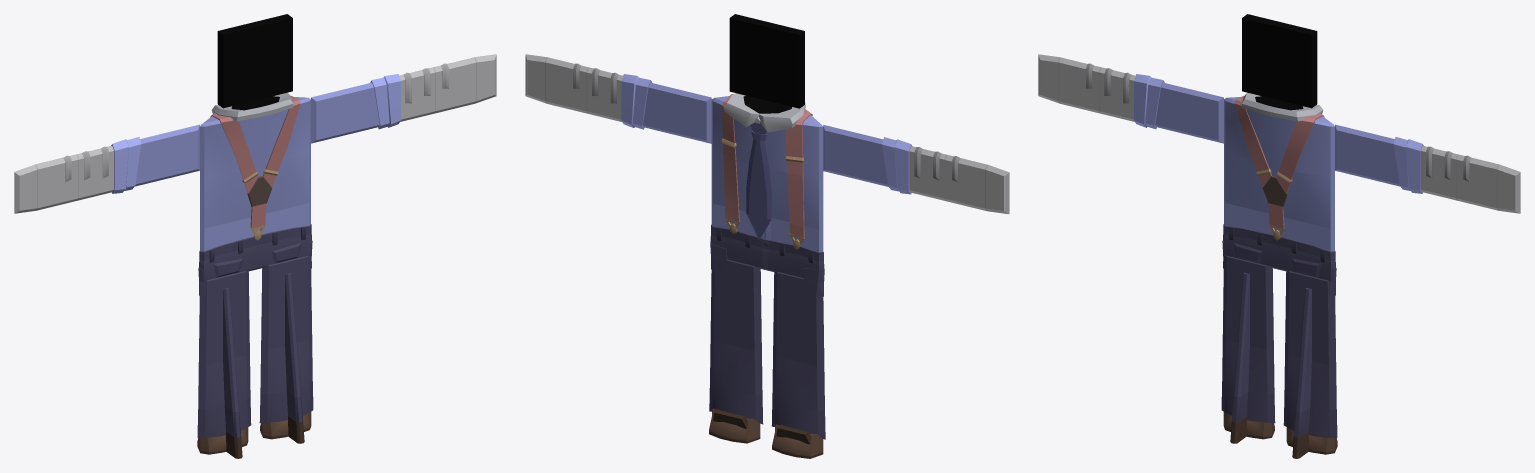
Rendered from honcho_newest.glb.
3 views of the same model, side by side, from view 1: azimuth 30°, elevation 25°; view 2: azimuth 150°, elevation 25°; view 3: azimuth 330°, elevation 25° (orthographic).
Visible parts, largest first — view 1: Object_11, Object_12, Object_9, Object_8, Object_14, Object_15, Object_16, Object_13, Object_10, Object_17, Object_3, Object_18 (+1 smaller); view 2: Object_11, Object_12, Object_9, Object_8, Object_14, Object_13, Object_16, Object_15, Object_19, Object_17, Object_3, Object_10 (+1 smaller); view 3: Object_11, Object_12, Object_9, Object_8, Object_14, Object_15, Object_16, Object_13, Object_10, Object_17, Object_3, Object_18 (+1 smaller).
Part boxes in pixels (x1=…): Object_11: x1=198, y1=224, x2=312, y2=412; Object_12: x1=135, y1=82, x2=379, y2=251; Object_9: x1=14, y1=54, x2=496, y2=213; Object_8: x1=14, y1=54, x2=496, y2=213; Object_14: x1=217, y1=14, x2=292, y2=110; Object_15: x1=197, y1=381, x2=313, y2=438; Object_16: x1=111, y1=74, x2=400, y2=193; Object_13: x1=210, y1=95, x2=300, y2=228; Object_10: x1=63, y1=63, x2=448, y2=181; Object_17: x1=197, y1=412, x2=311, y2=452; Object_3: x1=211, y1=92, x2=293, y2=121; Object_18: x1=197, y1=416, x2=311, y2=458; Object_11: x1=710, y1=224, x2=824, y2=410; Object_12: x1=643, y1=82, x2=888, y2=251; Object_9: x1=525, y1=54, x2=1009, y2=214; Object_8: x1=525, y1=54, x2=1009, y2=213; Object_14: x1=729, y1=14, x2=804, y2=113; Object_13: x1=722, y1=94, x2=812, y2=238; Object_16: x1=621, y1=74, x2=912, y2=194; Object_15: x1=709, y1=382, x2=825, y2=439; Object_19: x1=746, y1=122, x2=771, y2=239; Object_17: x1=709, y1=409, x2=823, y2=456; Object_3: x1=723, y1=93, x2=805, y2=132; Object_10: x1=573, y1=63, x2=959, y2=182; Object_11: x1=1222, y1=224, x2=1336, y2=412; Object_12: x1=1155, y1=82, x2=1399, y2=251; Object_9: x1=1038, y1=54, x2=1520, y2=213; Object_8: x1=1038, y1=54, x2=1520, y2=213; Object_14: x1=1242, y1=14, x2=1317, y2=110; Object_15: x1=1221, y1=381, x2=1337, y2=438; Object_16: x1=1134, y1=74, x2=1423, y2=193; Object_13: x1=1234, y1=95, x2=1324, y2=228; Object_10: x1=1086, y1=63, x2=1471, y2=181; Object_17: x1=1223, y1=412, x2=1337, y2=452; Object_3: x1=1241, y1=92, x2=1323, y2=121; Object_18: x1=1223, y1=416, x2=1337, y2=458.
Size of the model in its own units: 12.16 by 10 by 1.17.
